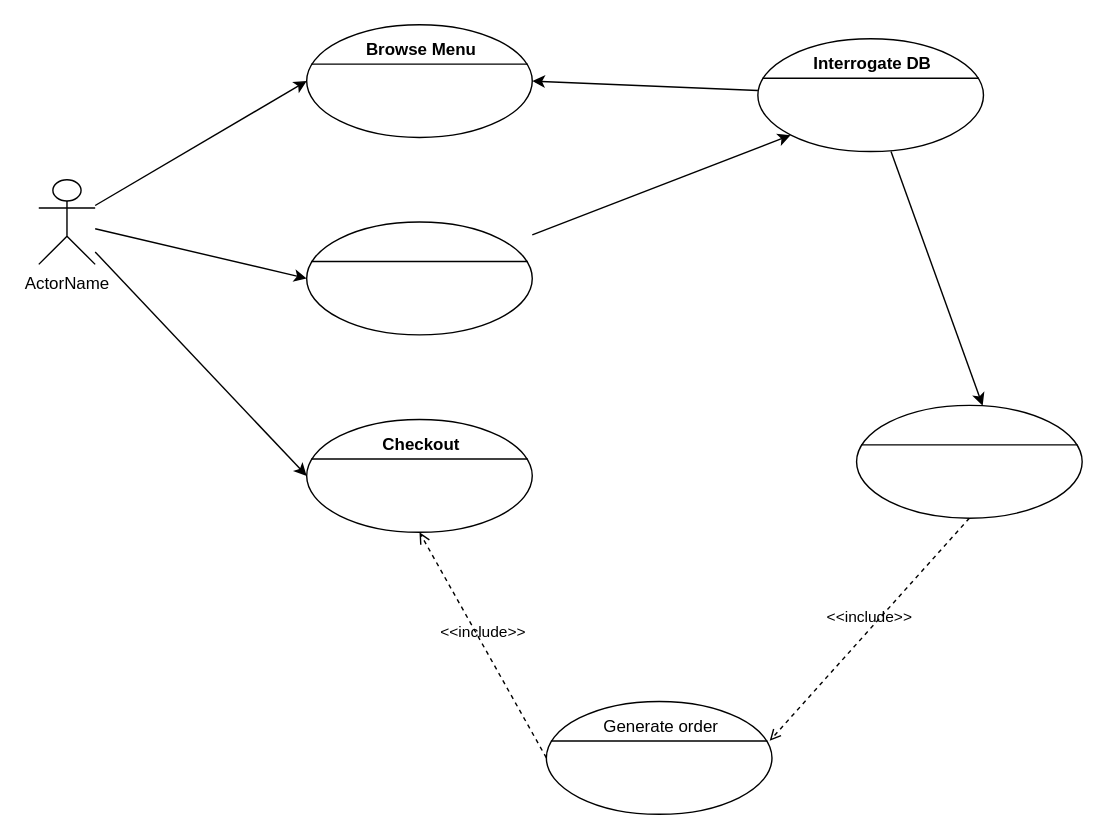
The diagram is 1107 pixels wide and 839 high, and some of its shapes have lost their labels. The centre of each missing label's shape, as x and y in pixels:
"Add to basket" goes at pixel 418 278.
"Authenticate User" goes at pixel 968 461.
